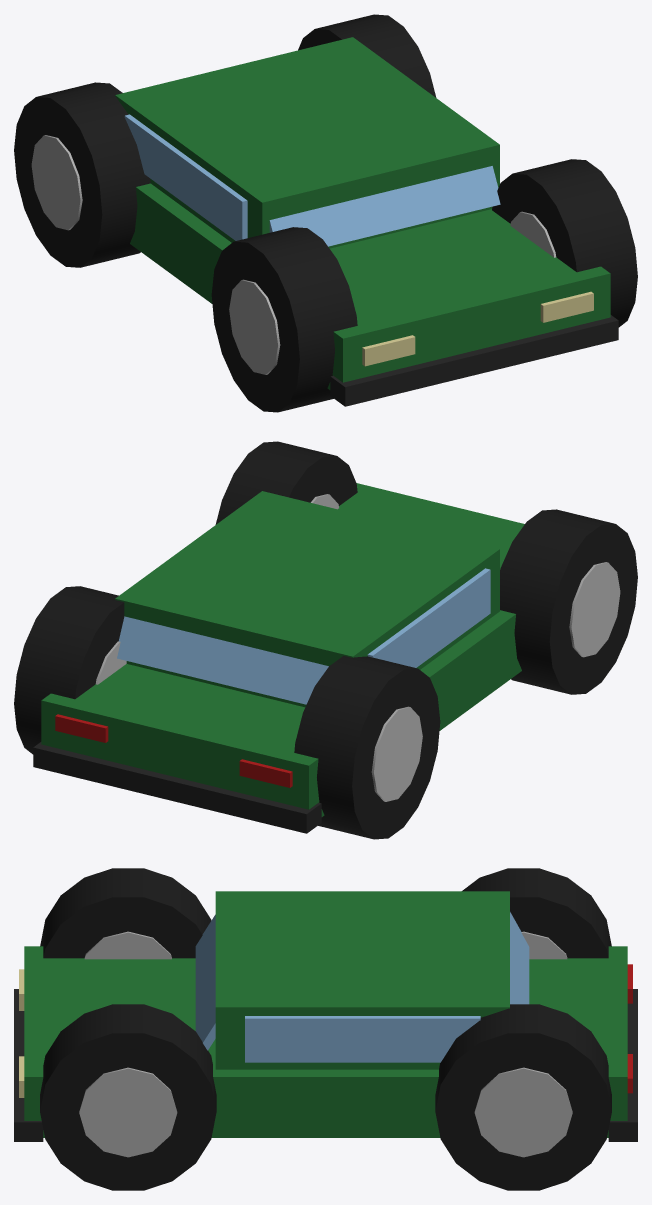
Rendered from kart.glb.
3 renders of one model, top to bottom at view 1: azimuth 30°, elevation 25°; view 2: azimuth 150°, elevation 25°; view 3: azimuth 270°, elevation 25°, orthographic.
Parts seen in each view (by area): view 1: kart-body, wheel_FR, wheel_RR, wheel_FL, wheel_RL; view 2: kart-body, wheel_RR, wheel_FR, wheel_RL, wheel_FL; view 3: kart-body, wheel_FL, wheel_RL, wheel_FR, wheel_RR.
Boxes of the visible parts, x1=… form: kart-body: x1=115, y1=37, x2=618, y2=406; wheel_FR: x1=211, y1=227, x2=357, y2=412; wheel_RR: x1=14, y1=82, x2=150, y2=267; wheel_FL: x1=492, y1=159, x2=637, y2=327; wheel_RL: x1=298, y1=14, x2=436, y2=97; kart-body: x1=33, y1=483, x2=524, y2=833; wheel_RR: x1=294, y1=656, x2=440, y2=839; wheel_FR: x1=500, y1=509, x2=637, y2=694; wheel_RL: x1=14, y1=586, x2=126, y2=754; wheel_FL: x1=215, y1=441, x2=357, y2=524; kart-body: x1=14, y1=891, x2=637, y2=1141; wheel_FL: x1=40, y1=1004, x2=216, y2=1190; wheel_RL: x1=435, y1=1004, x2=611, y2=1190; wheel_FR: x1=40, y1=868, x2=211, y2=959; wheel_RR: x1=462, y1=868, x2=611, y2=959.
Size of the model in its own units: 1.61 by 0.715 by 2.54.
